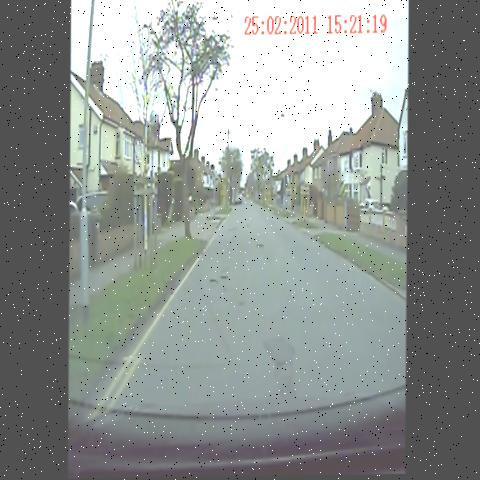pothole: (268, 326, 296, 387), (205, 266, 231, 292), (252, 230, 268, 258), (235, 284, 250, 313), (227, 223, 238, 237), (244, 215, 253, 232)
